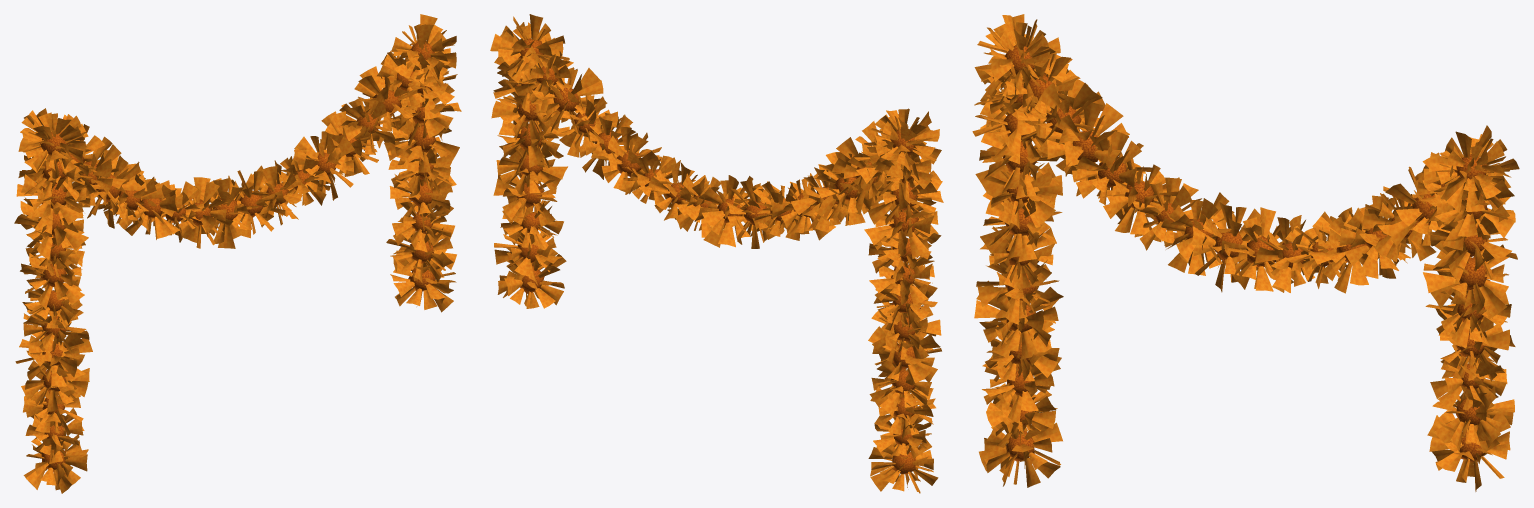
Rendered from guirnalda.obj.
3 renders of one model, left to right at view 1: azimuth 30°, elevation 25°; view 2: azimuth 150°, elevation 25°; view 3: azimuth 330°, elevation 25°, orthographic. The views are drawn at different scales.
Parts seen in each view (by area): view 1: Cadena_Colgada_1, Cadena_Tira_1, Cadena_Tira_2; view 2: Cadena_Colgada_1, Cadena_Tira_1, Cadena_Tira_2; view 3: Cadena_Colgada_1, Cadena_Tira_1, Cadena_Tira_2.
Boxes of the visible parts, bbox=[...] form: Cadena_Colgada_1: bbox=[20, 25, 450, 248]; Cadena_Tira_1: bbox=[14, 108, 92, 493]; Cadena_Tira_2: bbox=[383, 14, 461, 312]; Cadena_Colgada_1: bbox=[498, 22, 939, 248]; Cadena_Tira_1: bbox=[864, 108, 943, 493]; Cadena_Tira_2: bbox=[490, 14, 569, 308]; Cadena_Colgada_1: bbox=[977, 14, 1509, 293]; Cadena_Tira_1: bbox=[972, 15, 1068, 487]; Cadena_Tira_2: bbox=[1423, 125, 1519, 491].
Size of the model in its own units: 3.55 by 2.94 by 0.5688.
2 materials, 2 textured.
